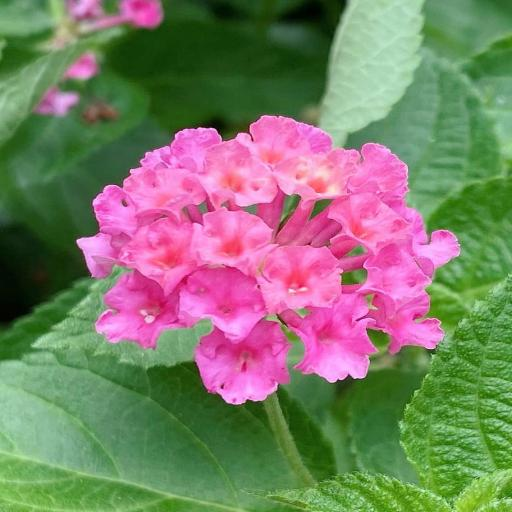Lantana: (74, 107, 472, 410)
